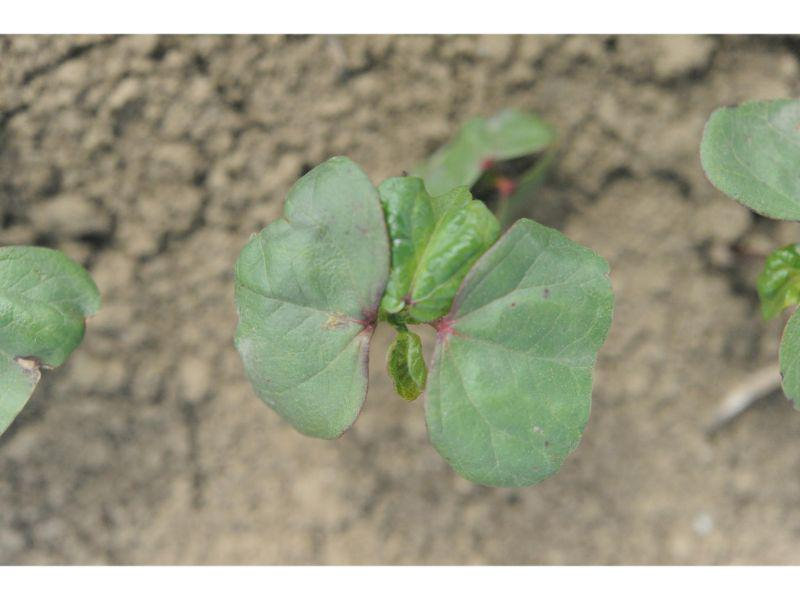cotton: (228, 149, 616, 495)
